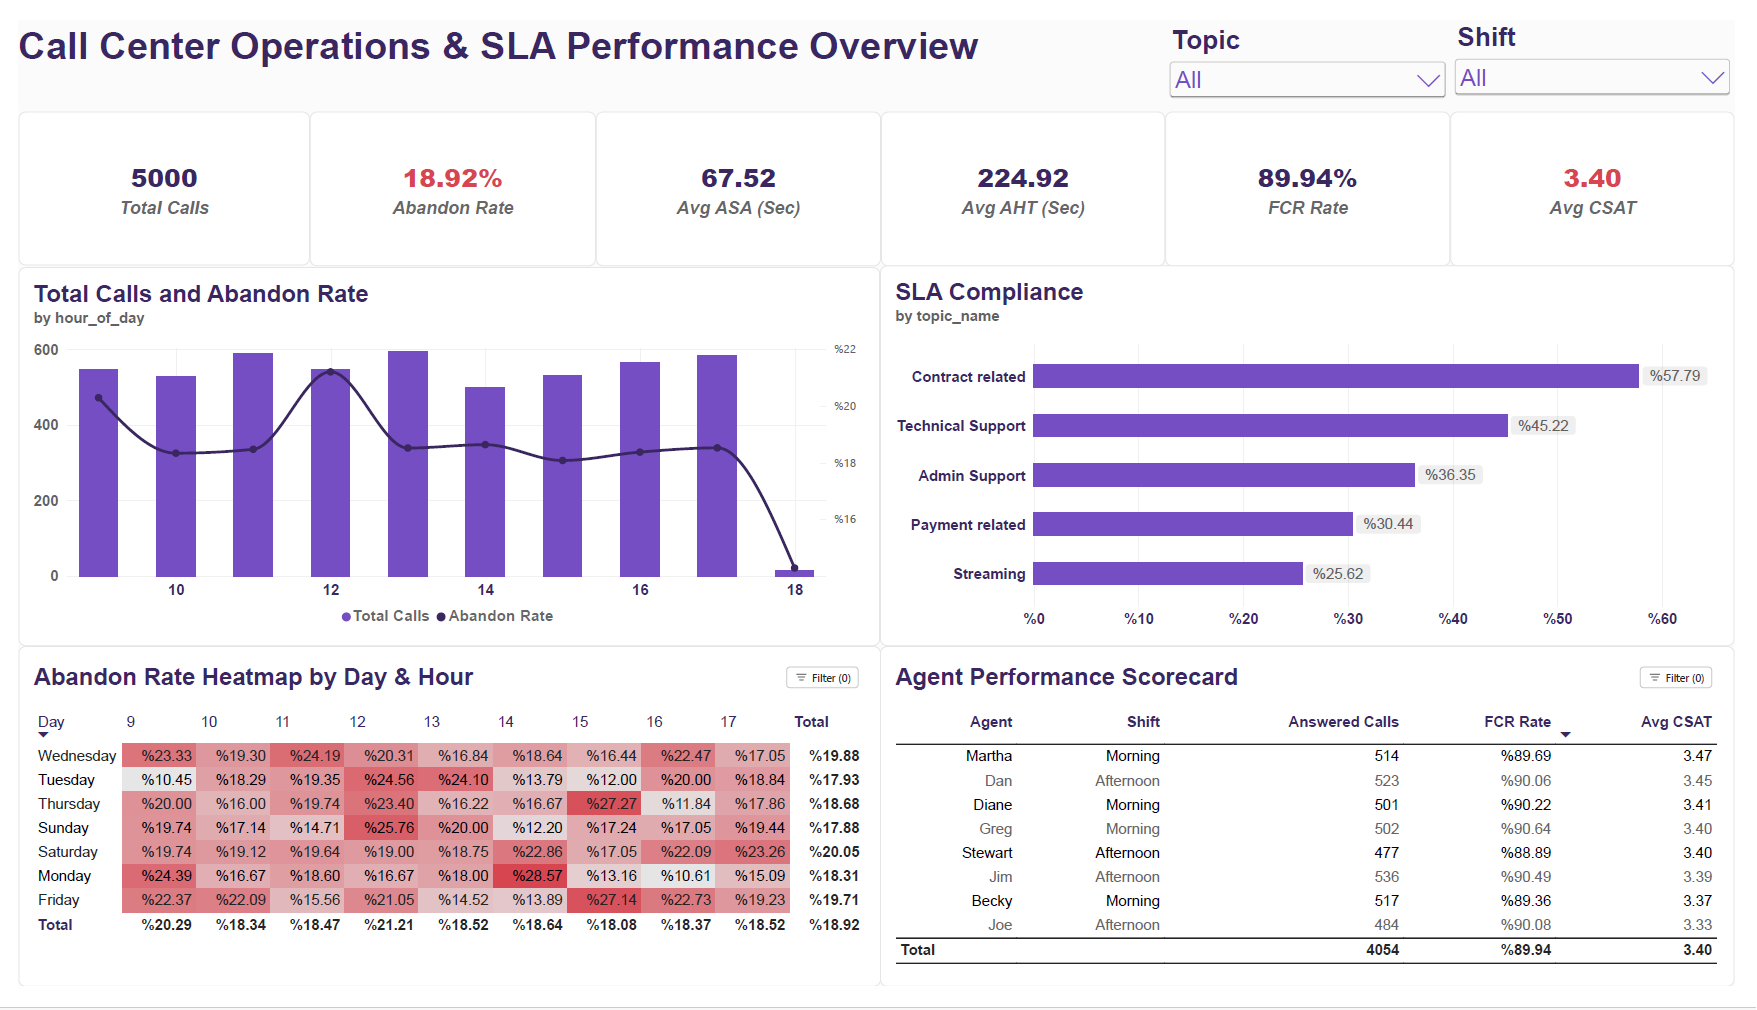

The page's visual inventory and layout, read from the dashboard file:
{"tool":"powerbi","page":{"name":"Page 1","canvas":[1920,1080],"ordinal":0},"visuals":[{"type":"card","fields":{"Values":["_Measures.Avg CSAT"]},"box":[1601.5,102,318.5,173.1],"z":0},{"type":"card","fields":{"Values":["_Measures.Fcr Rate Display"]},"box":[1283.1,102,318.5,173.1],"z":1000},{"type":"card","fields":{"Values":["_Measures.Avg AHT (Sec)"]},"box":[964.6,102,318.5,173.1],"z":2000},{"type":"card","fields":{"Values":["_Measures.Avg ASA (Sec)"]},"box":[646.2,102,318.5,173.1],"z":3000},{"type":"card","fields":{"Values":["_Measures.Abandon Rate Display"]},"box":[326.2,102,320,173.1],"z":4000},{"type":"card","fields":{"Values":["_Measures.Total Calls"]},"box":[0,102,326.2,171.6],"z":5000},{"type":"slicer","fields":{"Values":["dim_agents.team_shift"]},"box":[1601.5,1.5,318.5,100.5],"z":6000},{"type":"slicer","fields":{"Values":["dim_topics.topic_name"]},"box":[1283.1,4.6,318.5,97.4],"z":7000},{"type":"lineClusteredColumnComboChart","fields":{"Category":["fact_calls.hour_of_day"],"Y":["_Measures.Total Calls"],"Y2":["_Measures.Abandon Rate"]},"box":[0,275.9,964.5,423.9],"z":8000},{"type":"clusteredBarChart","fields":{"Category":["dim_topics.topic_name"],"Y":["_Measures.SLA Compliance"]},"box":[964.5,273.6,955.5,426.2],"z":9000},{"type":"pivotTable","title":"Abandon Rate Heatmap by Day & Hour","fields":{"Columns":["fact_calls.hour_of_day"],"Rows":["fact_calls.day_of_week"],"Values":["_Measures.Abandon Rate (50+ Calls)"]},"box":[0,700.3,964.6,380.3],"z":10000},{"type":"tableEx","title":"Agent Performance Scorecard","fields":{"Values":["dim_agents.agent_name","dim_agents.team_shift","_Measures.Answered Calls","_Measures.FCR Rate","_Measures.Avg CSAT"]},"box":[964.5,699.8,955.5,381.3],"z":11000},{"type":"textbox","box":[0,3.8,1232.1,97.7],"z":12000}]}

Visuals, with their boxes in screenshot pixels (x1, y1, x2, y2), scaled from the page's 1920x1080 canvas onto the 1757x1010 screenshot:
card - _Measures.Avg CSAT: <box>1466,95,1756,257</box>
card - _Measures.Fcr Rate Display: <box>1174,95,1466,257</box>
card - _Measures.Avg AHT (Sec): <box>883,95,1174,257</box>
card - _Measures.Avg ASA (Sec): <box>591,95,883,257</box>
card - _Measures.Abandon Rate Display: <box>299,95,591,257</box>
card - _Measures.Total Calls: <box>0,95,299,256</box>
slicer - dim_agents.team_shift: <box>1466,1,1756,95</box>
slicer - dim_topics.topic_name: <box>1174,4,1466,95</box>
lineClusteredColumnComboChart - fact_calls.hour_of_day x _Measures.Total Calls: <box>0,258,883,654</box>
clusteredBarChart - dim_topics.topic_name x _Measures.SLA Compliance: <box>883,256,1756,654</box>
"Abandon Rate Heatmap by Day & Hour" pivotTable: <box>0,655,883,1009</box>
"Agent Performance Scorecard" tableEx: <box>883,654,1756,1009</box>
textbox: <box>0,4,1127,95</box>
